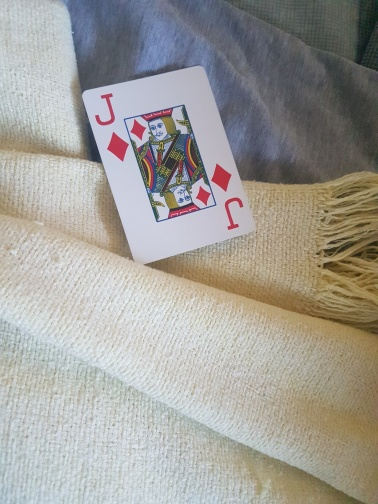jack: (81, 67, 258, 262)
